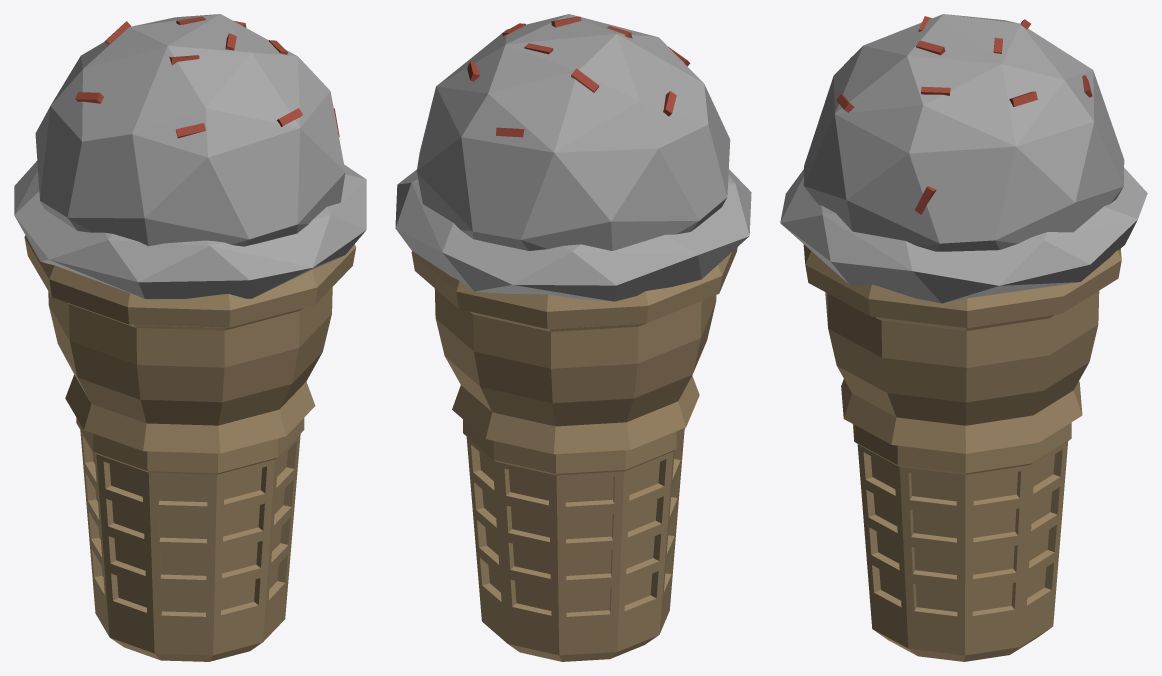
File: IceCream_3.glb
3 views of the same model, side by side, from view 1: azimuth 30°, elevation 25°; view 2: azimuth 150°, elevation 25°; view 3: azimuth 270°, elevation 25° (orthographic).
Parts seen in each view (by area): view 1: LightYellow, White, Red; view 2: LightYellow, White, Red; view 3: LightYellow, White, Red.
Boxes of the visible parts, left/top/right/bottom form: LightYellow: left=24, top=235, right=356, bottom=661; White: left=14, top=14, right=366, bottom=299; Red: left=75, top=16, right=339, bottom=138; LightYellow: left=411, top=247, right=737, bottom=661; White: left=395, top=14, right=751, bottom=301; Red: left=467, top=16, right=690, bottom=137; LightYellow: left=803, top=244, right=1121, bottom=661; White: left=780, top=14, right=1147, bottom=303; Red: left=836, top=16, right=1092, bottom=214.
Bounding box in the file's own units: 0.5155 × 0.9274 × 0.5155.
